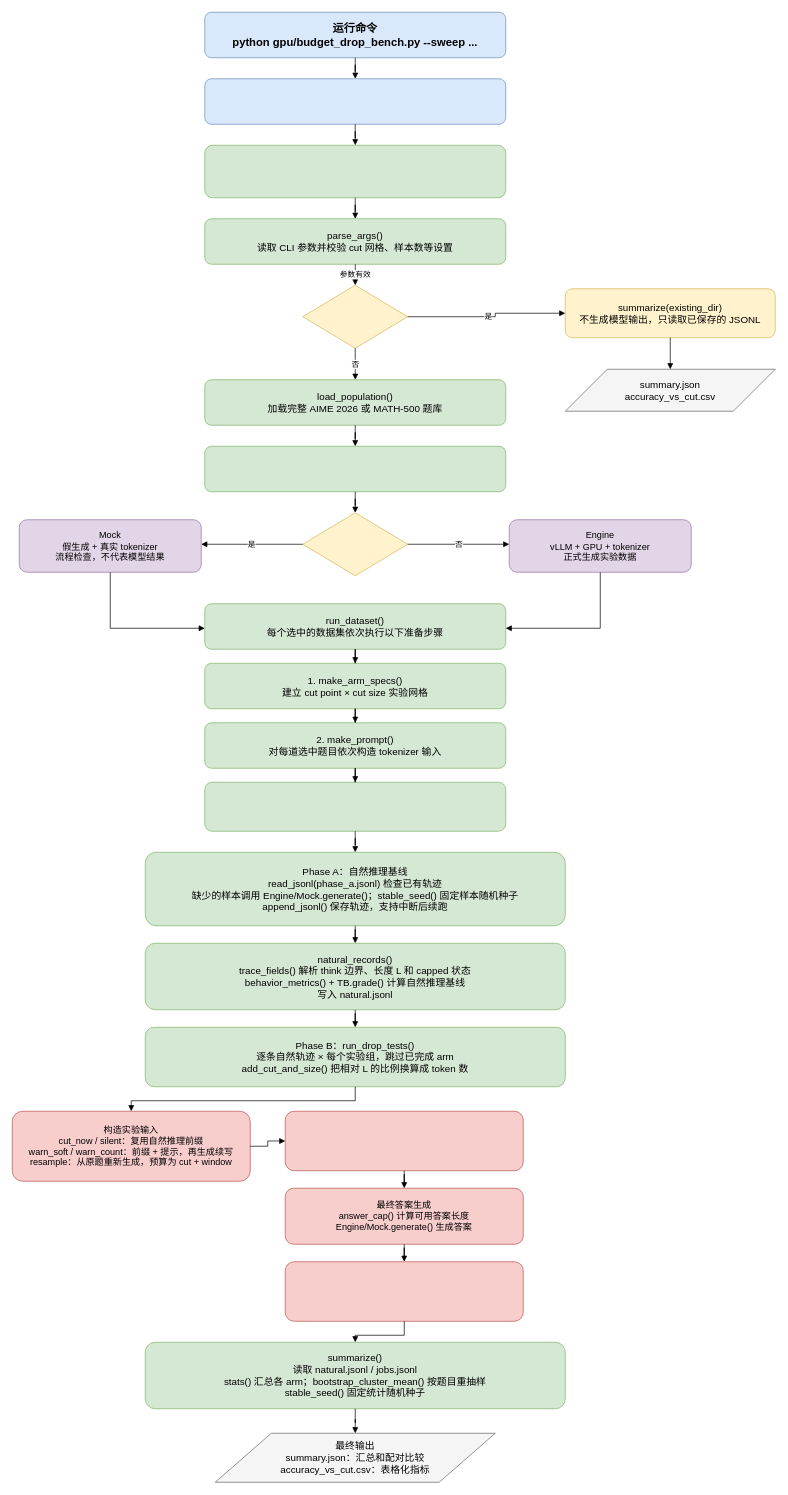
This 788x1495 diagram has some shape labels left out. The box of each missing label's shape, as (x1, y1, x2, y2) in pixels:
--analyze?: (302, 285, 408, 348)
--mock?: (302, 512, 408, 576)
3. 组装 config / manifest ensure_run_files() 创建或核对配置与题目清单: (204, 782, 506, 831)
budget_drop_bench.main() 识别 --sweep 并转交控制权: (204, 78, 506, 124)
budget_drop_sweep.main() 总入口：解析参数、选择题目、选择后端、运行数据集: (204, 145, 506, 198)
uniform_sample() 用 seed 在生成前均匀抽取不重复题目: (204, 446, 506, 492)
warn / resample 续写 Engine/Mock.generate(stop_ids) clean_thinking_ids() 处理边界标记: (285, 1111, 523, 1171)
评分与行为指标 TB.grade() + behavior_metrics() 写入 jobs.jsonl（答案文本、正确性、泄漏、复查、方法切换）: (285, 1261, 523, 1321)
